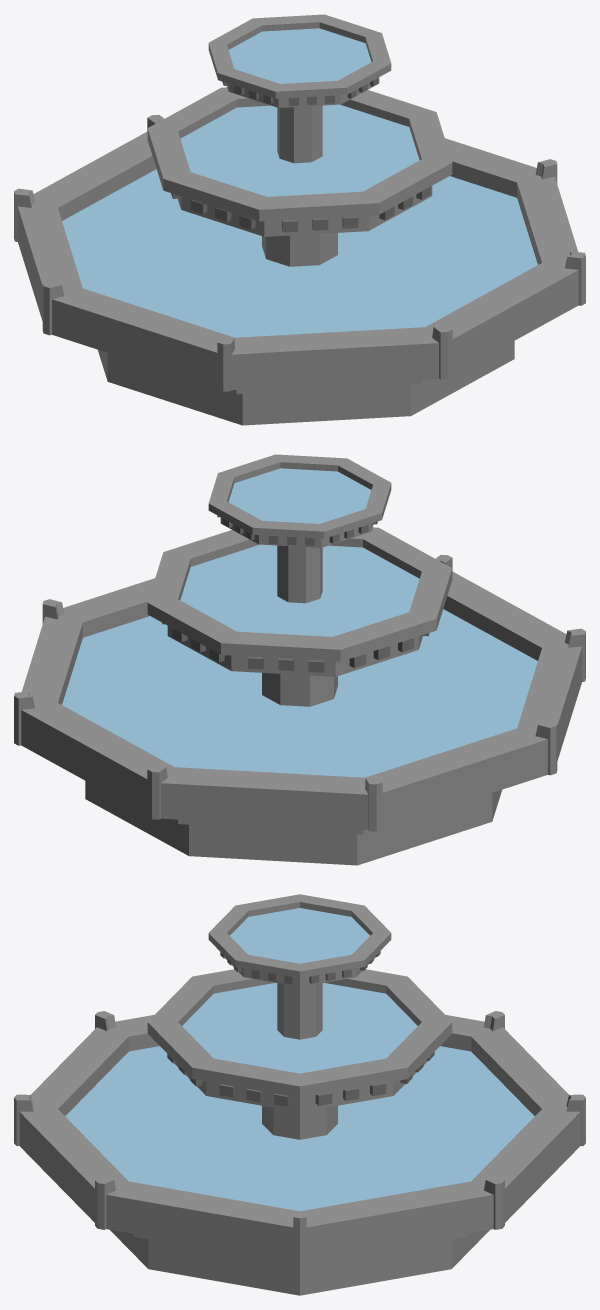
File: Fountain.fbx
3 renders of one model, top to bottom at view 1: azimuth 30°, elevation 25°; view 2: azimuth 150°, elevation 25°; view 3: azimuth 270°, elevation 25°, orthographic. The views are drawn at different scales.
Visible parts, largest first — view 1: Cylinder.001; view 2: Cylinder.001; view 3: Cylinder.001.
Part boxes in pixels (x1,y1,x2,y2): Cylinder.001: (14,14,585,425); Cylinder.001: (14,454,585,865); Cylinder.001: (14,894,585,1295).
Bounding box in the file's own units: 4.53 × 4.53 × 2.38.
